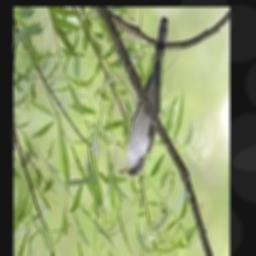Cuckoo: (119, 19, 169, 177)
